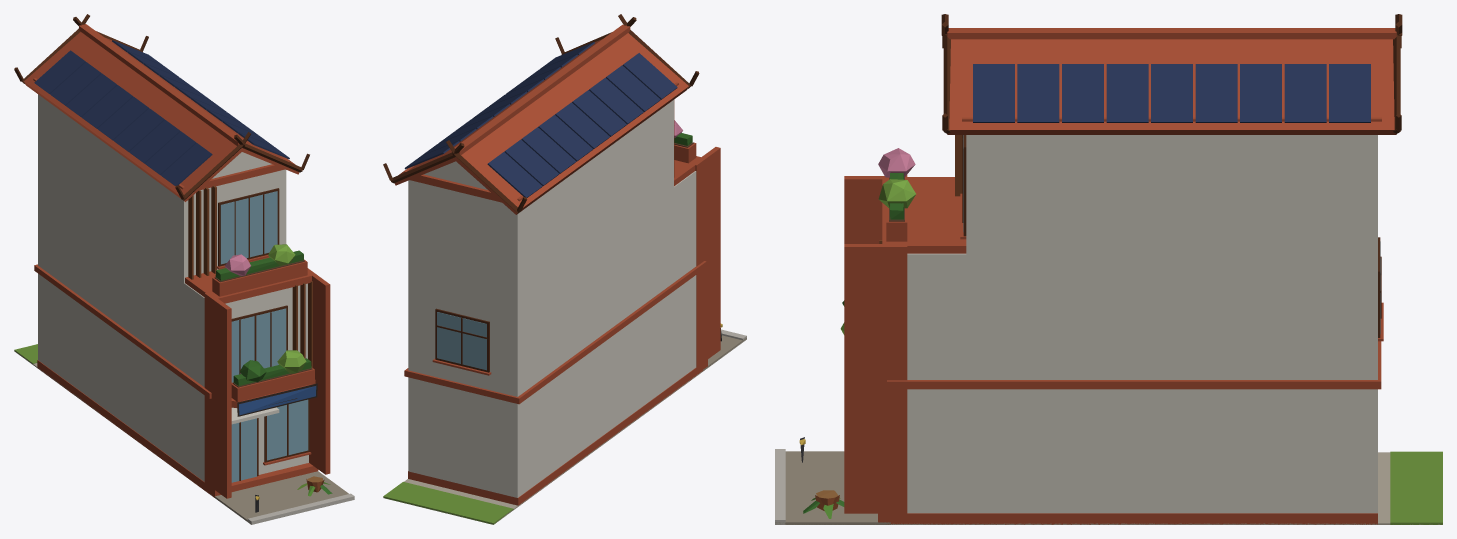
The model's file is bay1_mid.glb.
The picture shows the model from 3 angles, left to right: view 1: azimuth 30°, elevation 25°; view 2: azimuth 150°, elevation 25°; view 3: azimuth 270°, elevation 25°; orthographic projection. The views are drawn at different scales.
Visible parts, largest first — view 1: body; view 2: body; view 3: body.
Boxes of the visible parts, <box> form: body: <box>14,14,354,524</box>; body: <box>383,14,746,524</box>; body: <box>775,14,1442,524</box>.
Bounding box in the file's own units: 5.23 × 12.39 × 15.9.
